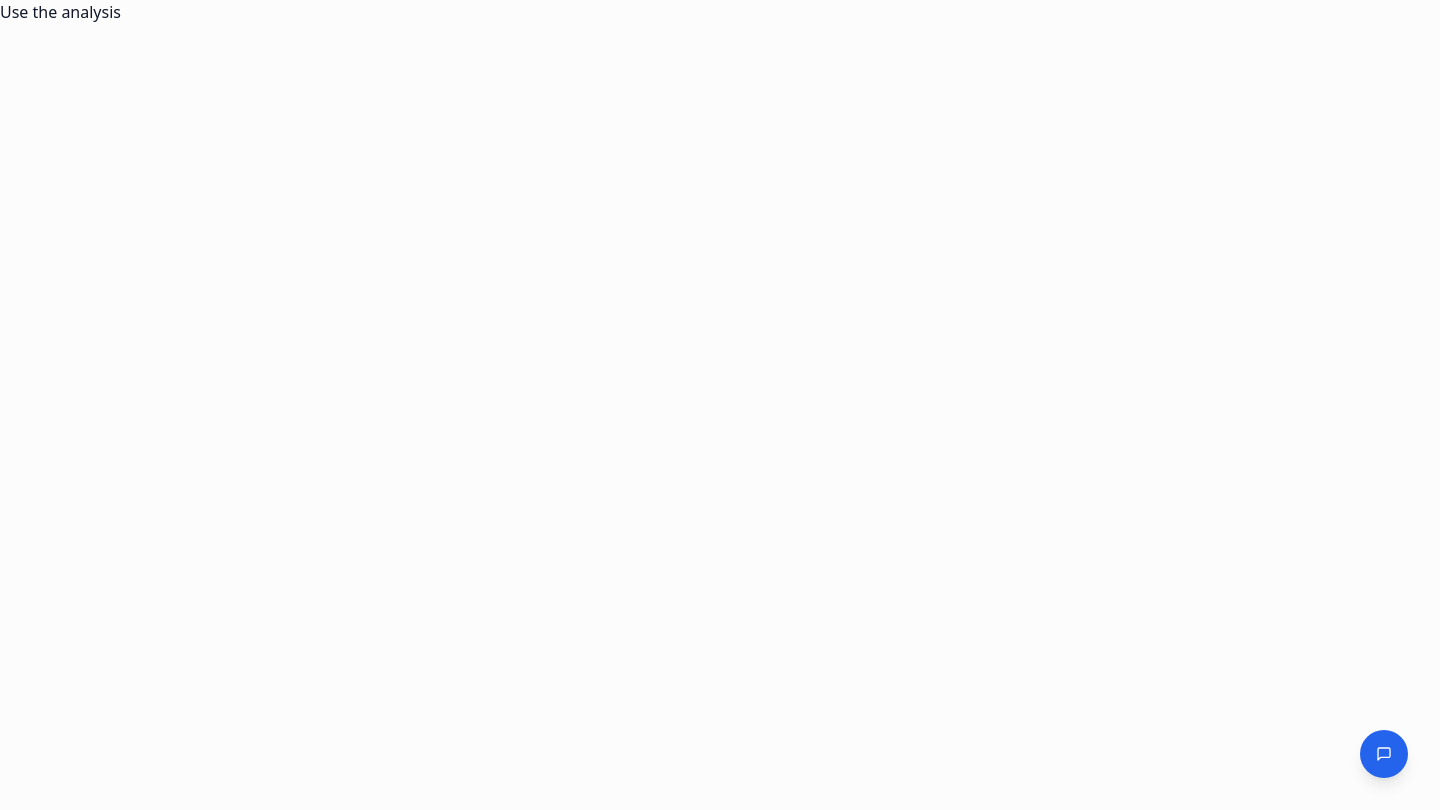
Test: AnalysisChatBubble › opens an accessible popup lazily and supports close, focus return and Escape without AI requests
Click the button named "Chat about this analysis" at (1384, 754), box top-left (1360, 730), bottom-right (1408, 778)
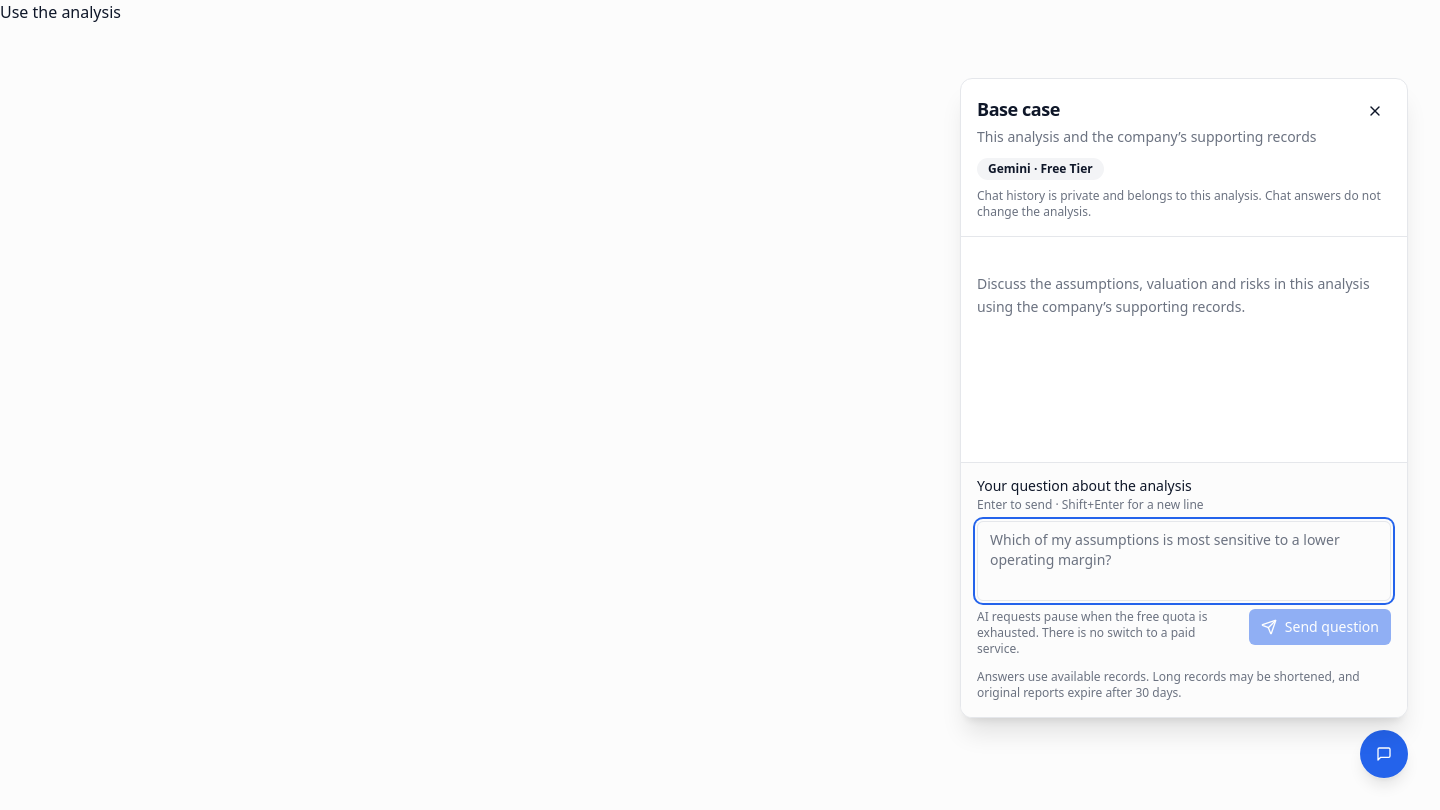
Expected: the text box labelled "Your question about the analysis" is enabled, top-left (977, 521), bottom-right (1391, 601)
Expected: the heading "Base case" is shown, top-left (977, 97), bottom-right (1060, 121)
Expected: the text "This analysis and the company’s supporting records" is shown, top-left (977, 127), bottom-right (1316, 147)
Click the button named "Close analysis chat" at (1375, 111), box top-left (1359, 95), bottom-right (1391, 127)
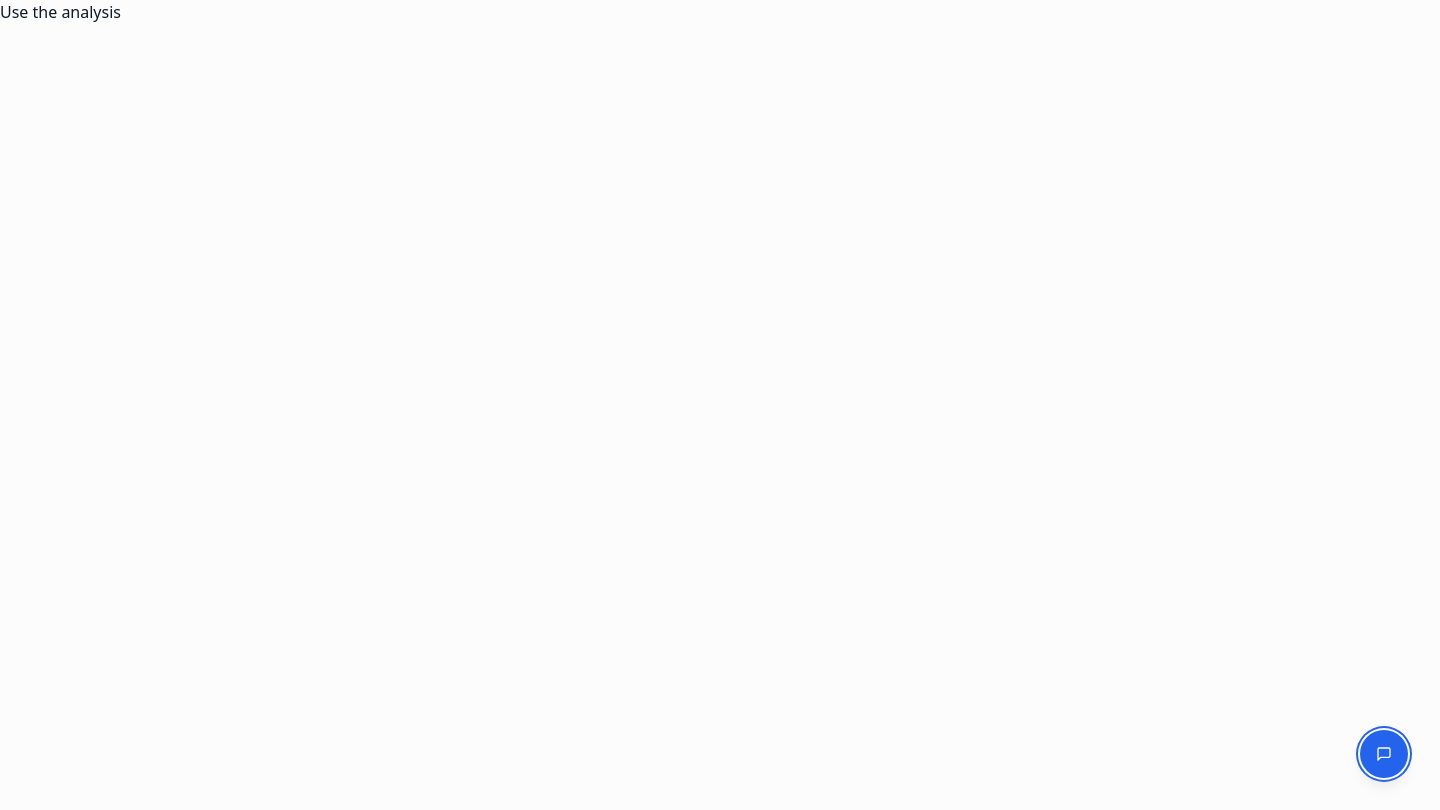
Expected: the dialog is gone
Click the button named "Chat about this analysis" at (1384, 754), box top-left (1360, 730), bottom-right (1408, 778)
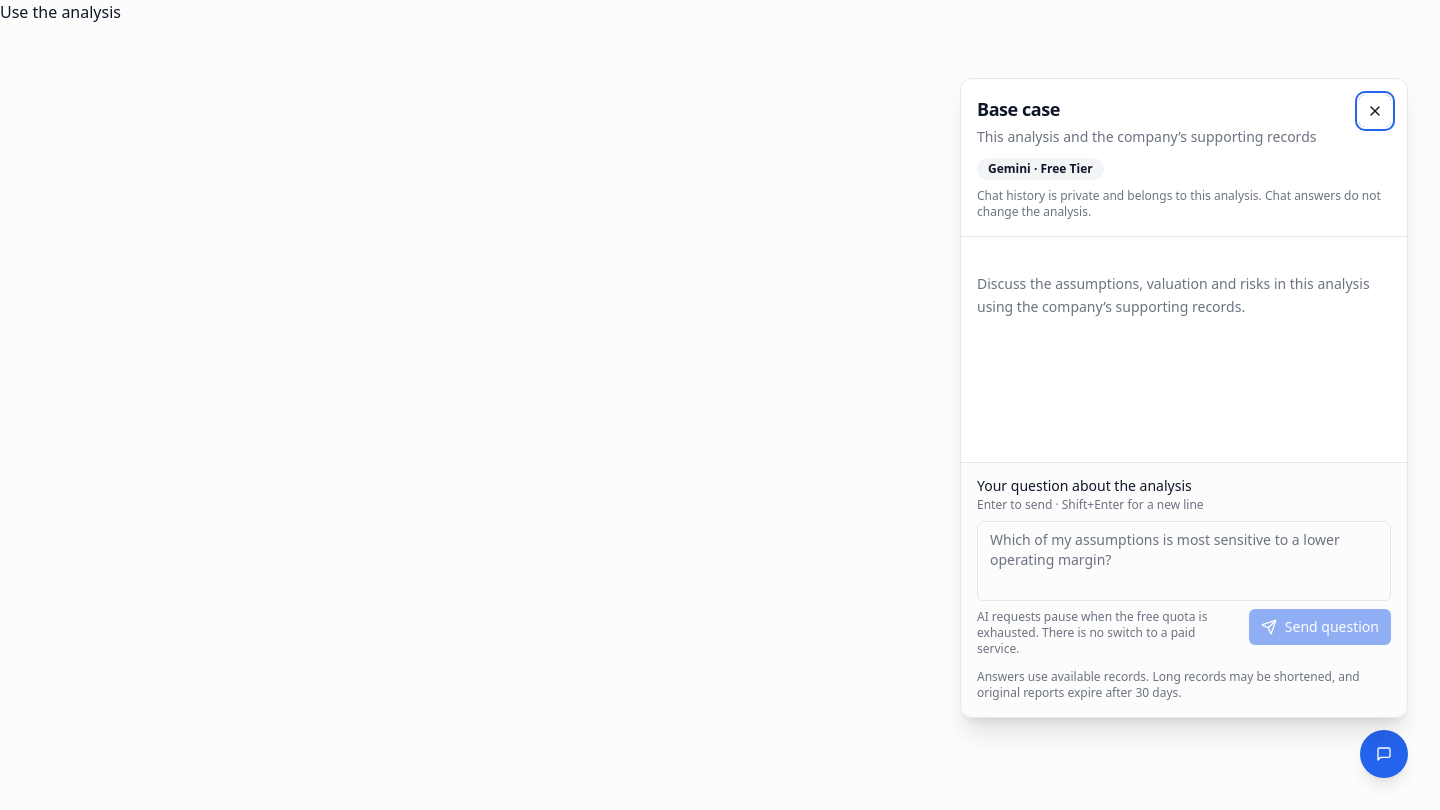
Expected: the text box labelled "Your question about the analysis" is enabled, top-left (977, 521), bottom-right (1391, 601)
Press Escape in the dialog, box top-left (960, 78), bottom-right (1408, 718)
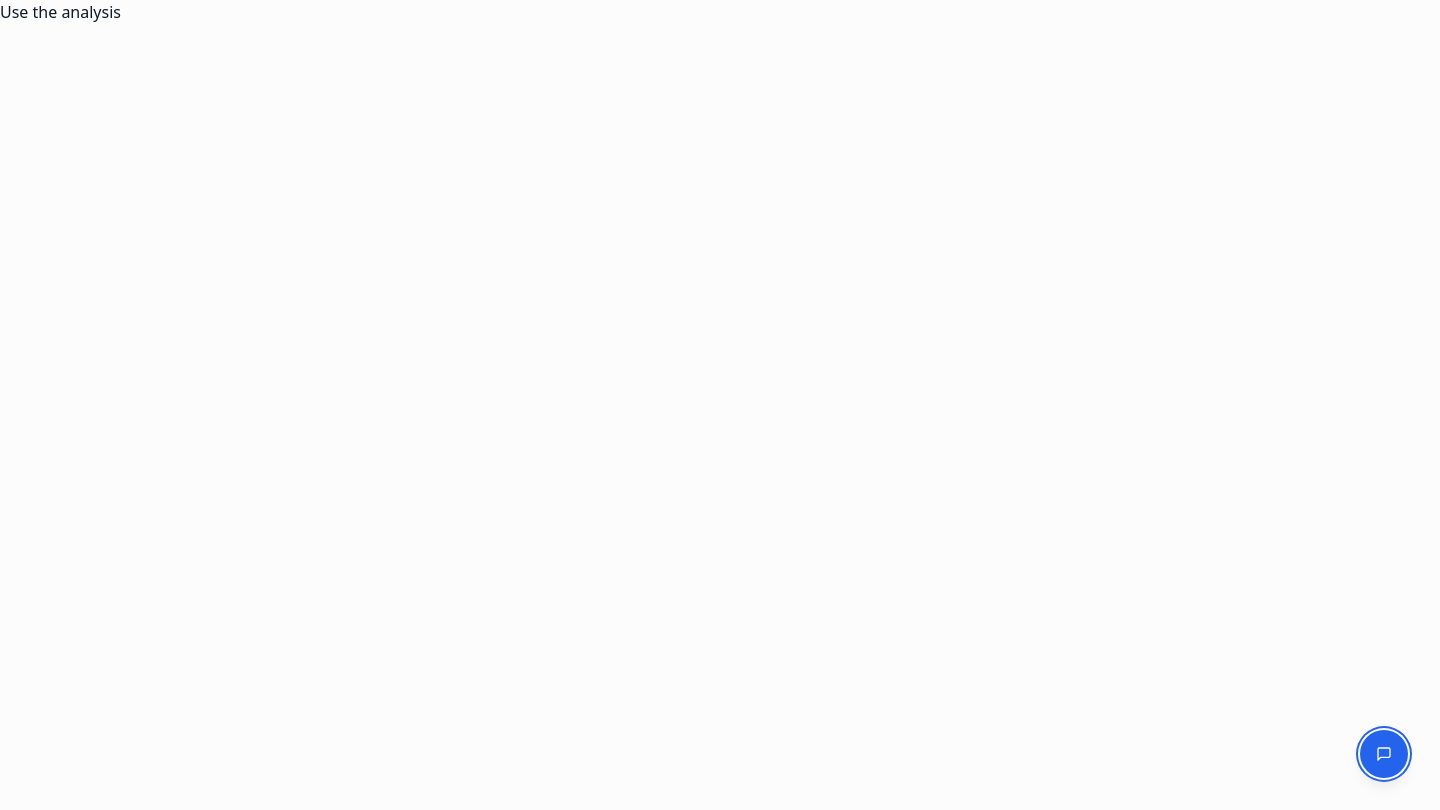
Expected: the dialog is gone
